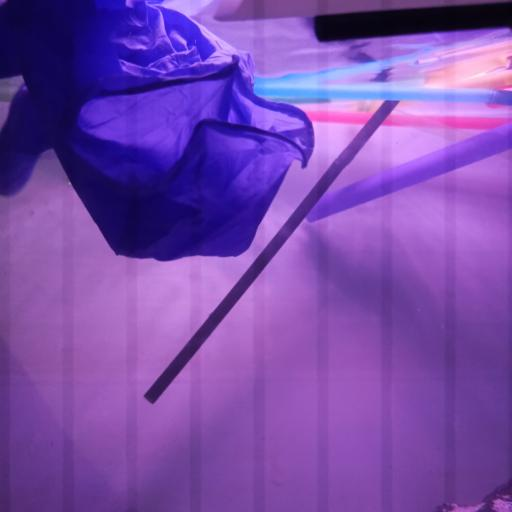glove: (2, 0, 316, 264)
plastic_straw: (144, 98, 400, 407), (304, 121, 512, 224), (313, 1, 512, 43), (253, 81, 512, 107), (300, 105, 512, 131), (425, 69, 512, 89)
